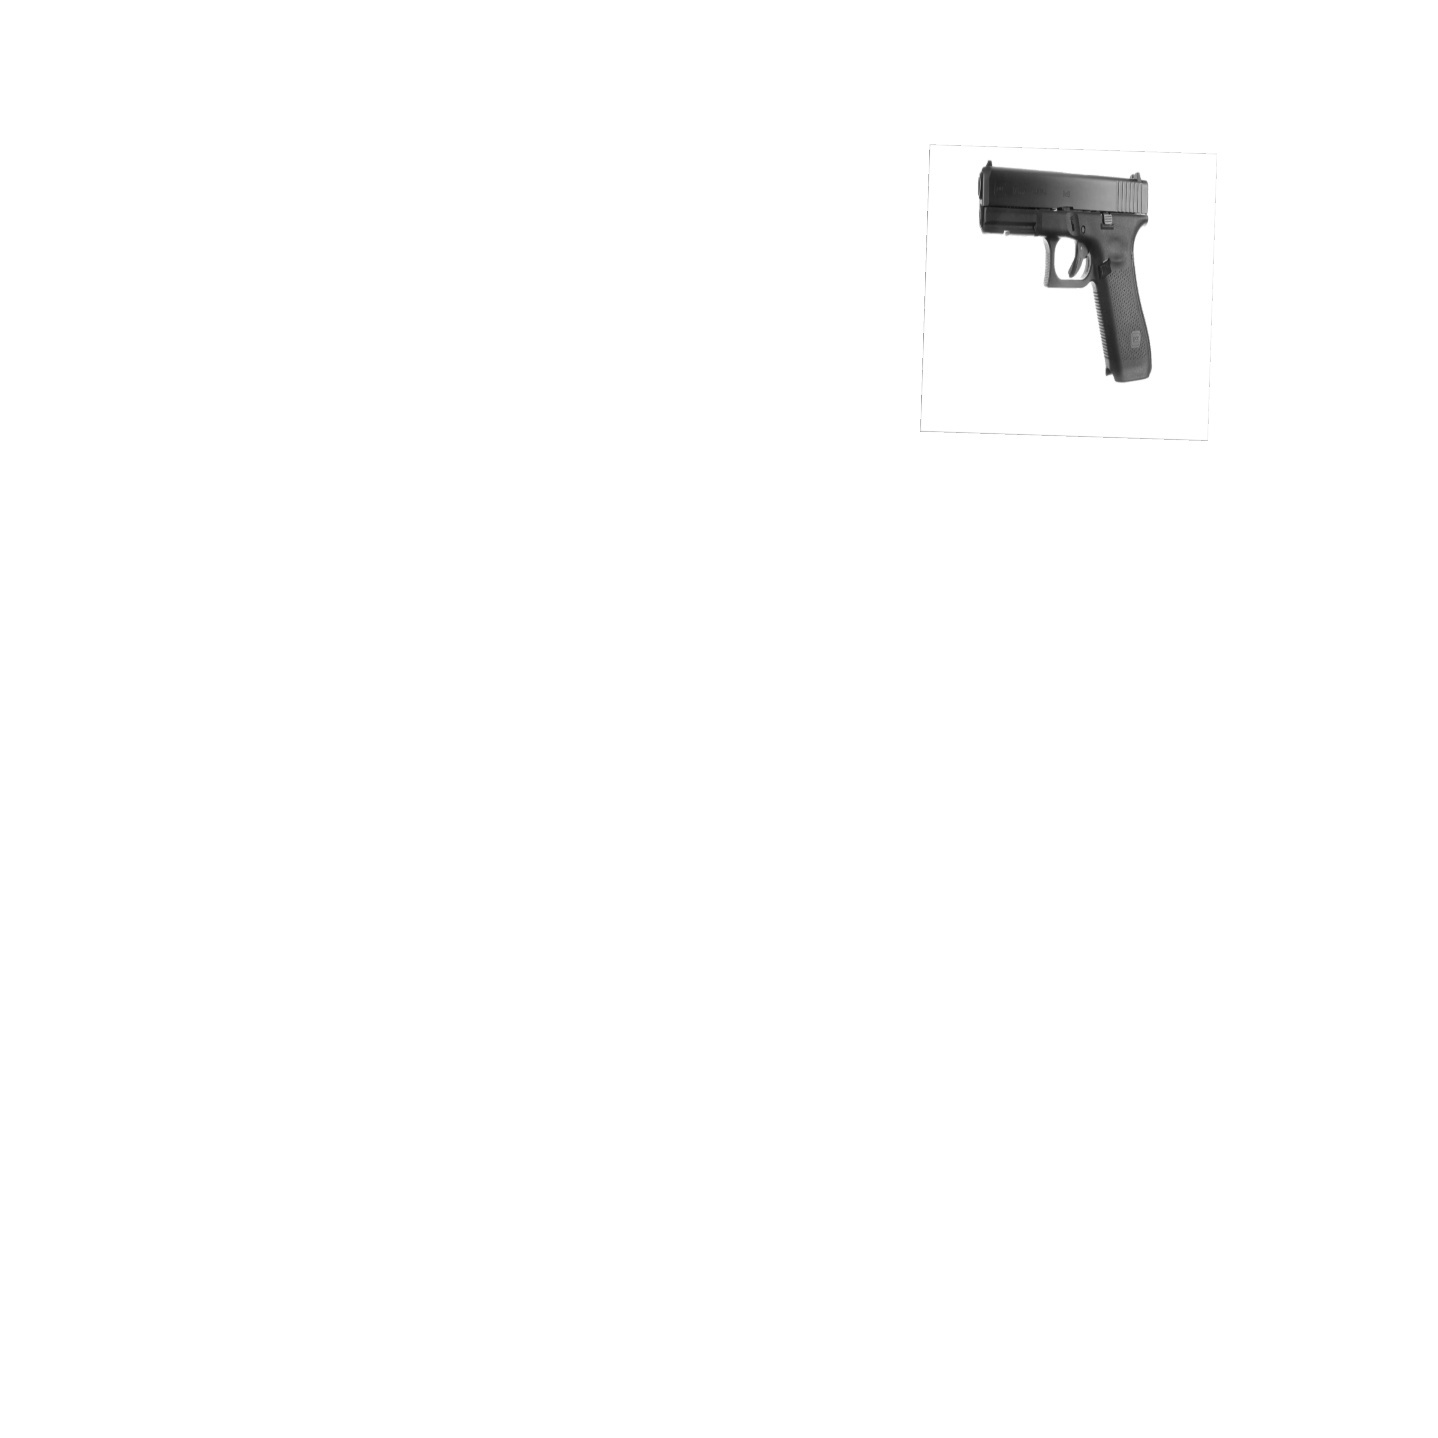gun: (978, 161, 1154, 382)
